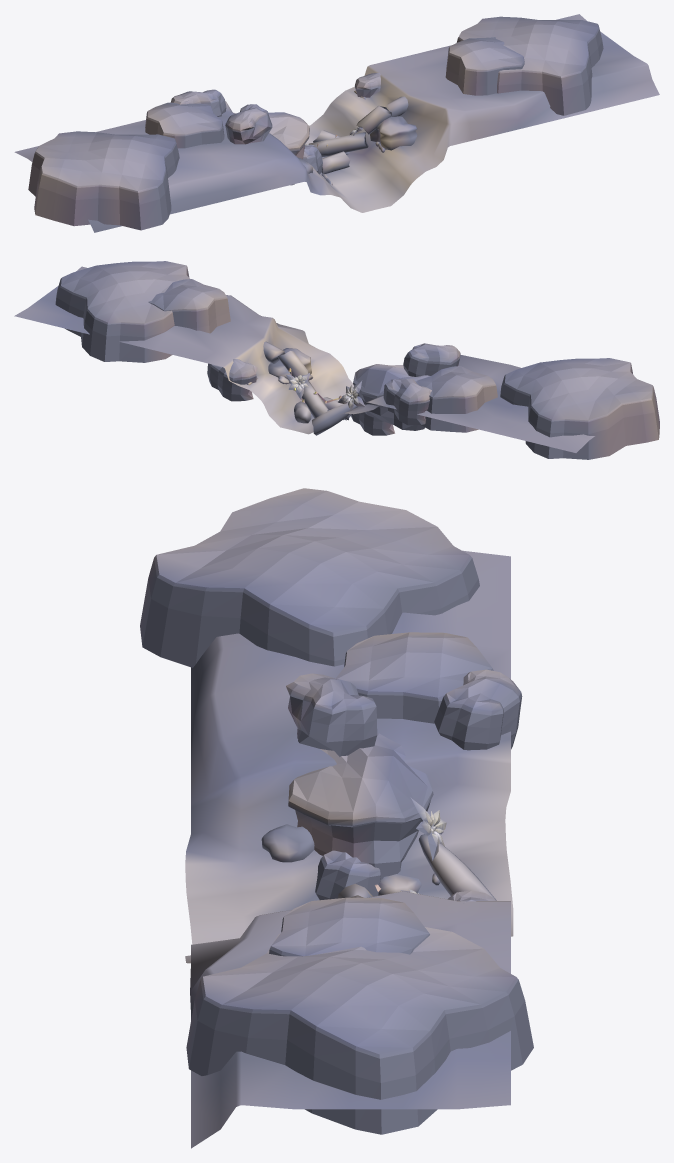
File: Arctic_Luge_Straight_OverObstacle_A.glb
The picture shows the model from 3 angles, top to bottom: view 1: azimuth 30°, elevation 25°; view 2: azimuth 150°, elevation 25°; view 3: azimuth 270°, elevation 25°; orthographic projection. The views are drawn at different scales.
Parts seen in each view (by area): view 1: Arctic_Luge_Straight_OverObstacle_A, Arctic_Luge_MediumIceRock_prop (1), Arctic_Luge_MediumIceRock_prop, Arctic_Luge_SmallIceRock_prop, Arctic_Luge_SmallIceRock_prop (1), Arctic_Luge_SmalRock_prop (1), Arctic_Luge_MediumRock_prop, Arctic_Luge_SmalRock_prop, Arctic_Luge_SmalRock_prop (3), Arctic_Luge_SmalRock_prop (2); view 2: Arctic_Luge_Straight_OverObstacle_A, Arctic_Luge_MediumIceRock_prop (1), Arctic_Luge_MediumIceRock_prop, Arctic_Luge_SmallIceRock_prop (1), Arctic_Luge_SmallIceRock_prop, Arctic_Luge_MediumRock_prop, Arctic_Luge_SmalRock_prop, Arctic_Luge_SmalRock_prop (1), Arctic_Luge_SmalRock_prop (3), Arctic_Luge_SmalRock_prop (2), Arctic_Poinsettia_holiday (2), Arctic_Poinsettia_holiday (1); view 3: Arctic_Luge_Straight_OverObstacle_A, Arctic_Luge_MediumIceRock_prop, Arctic_Luge_MediumIceRock_prop (1), Arctic_Luge_MediumRock_prop, Arctic_Luge_SmallIceRock_prop (1), Arctic_Luge_SmallIceRock_prop, Arctic_Luge_SmalRock_prop (1), Arctic_Luge_SmalRock_prop, Arctic_Luge_SmalRock_prop (2).
Part boxes in pixels (x1,y1,x2,y2): Arctic_Luge_Straight_OverObstacle_A: (14, 14, 659, 232); Arctic_Luge_MediumIceRock_prop (1): (28, 131, 179, 230); Arctic_Luge_MediumIceRock_prop: (456, 16, 603, 115); Arctic_Luge_SmallIceRock_prop: (445, 37, 524, 95); Arctic_Luge_SmallIceRock_prop (1): (145, 102, 224, 148); Arctic_Luge_SmalRock_prop (1): (225, 104, 272, 144); Arctic_Luge_MediumRock_prop: (268, 112, 309, 159); Arctic_Luge_SmalRock_prop: (170, 89, 226, 116); Arctic_Luge_SmalRock_prop (3): (355, 73, 380, 97); Arctic_Luge_SmalRock_prop (2): (290, 145, 322, 185); Arctic_Luge_Straight_OverObstacle_A: (14, 266, 594, 452); Arctic_Luge_MediumIceRock_prop (1): (500, 358, 659, 459); Arctic_Luge_MediumIceRock_prop: (55, 261, 189, 362); Arctic_Luge_SmallIceRock_prop (1): (416, 366, 497, 432); Arctic_Luge_SmallIceRock_prop: (148, 279, 230, 333); Arctic_Luge_MediumRock_prop: (353, 364, 429, 430); Arctic_Luge_SmalRock_prop: (383, 378, 431, 425); Arctic_Luge_SmalRock_prop (1): (403, 343, 460, 376); Arctic_Luge_SmalRock_prop (3): (207, 359, 257, 401); Arctic_Luge_SmalRock_prop (2): (350, 396, 394, 435); Arctic_Poinsettia_holiday (2): (338, 380, 365, 410); Arctic_Poinsettia_holiday (1): (286, 373, 309, 399); Arctic_Luge_Straight_OverObstacle_A: (185, 550, 513, 1148); Arctic_Luge_MediumIceRock_prop: (186, 927, 533, 1134); Arctic_Luge_MediumIceRock_prop (1): (140, 488, 479, 667); Arctic_Luge_MediumRock_prop: (288, 733, 433, 879); Arctic_Luge_SmallIceRock_prop (1): (336, 632, 493, 723); Arctic_Luge_SmallIceRock_prop: (269, 897, 429, 956); Arctic_Luge_SmalRock_prop (1): (286, 673, 377, 756); Arctic_Luge_SmalRock_prop: (434, 669, 522, 750); Arctic_Luge_SmalRock_prop (2): (315, 850, 380, 900).
Size of what is drawn, in the model's own units: 27.4 by 4.32 by 7.88.
